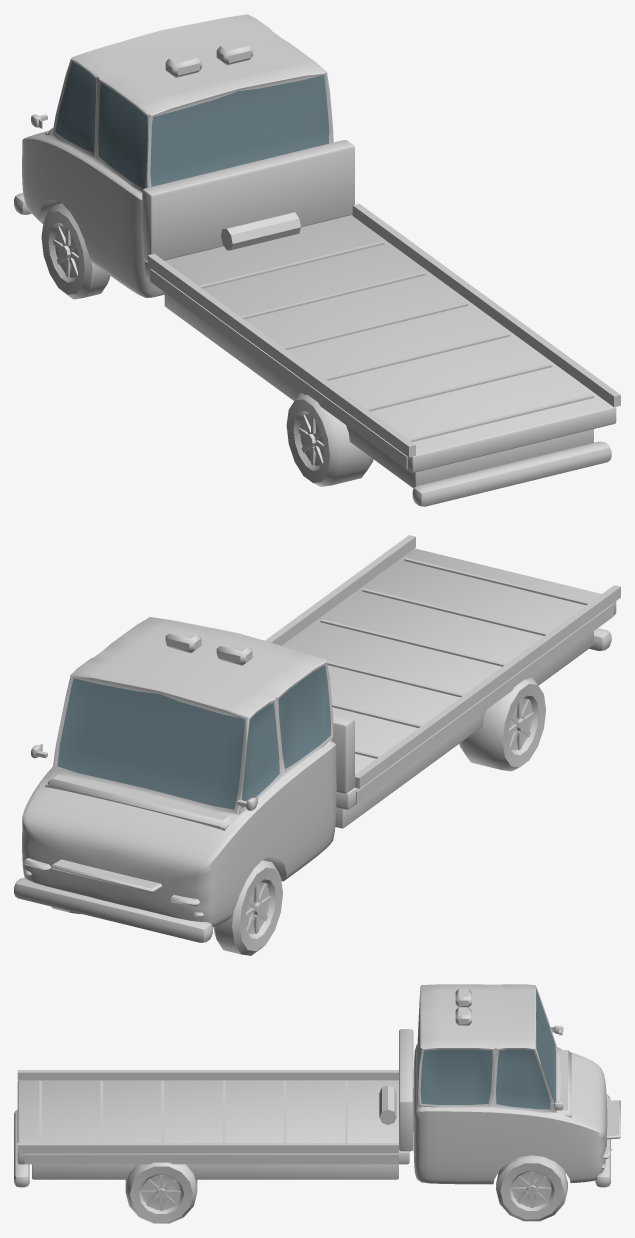
The model's file is car_tow.glb.
3 views of the same model, one above another, from view 1: azimuth 30°, elevation 25°; view 2: azimuth 150°, elevation 25°; view 3: azimuth 270°, elevation 25° (orthographic). The views are drawn at different scales.
Parts seen in each view (by area): view 1: car_tow; view 2: car_tow; view 3: car_tow.
Part boxes in pixels (x1,y1,x2,y2): car_tow: (14, 14, 620, 506); car_tow: (14, 535, 620, 955); car_tow: (14, 984, 620, 1223).
Size of the model in its own units: 2.6 by 2.85 by 8.44.
